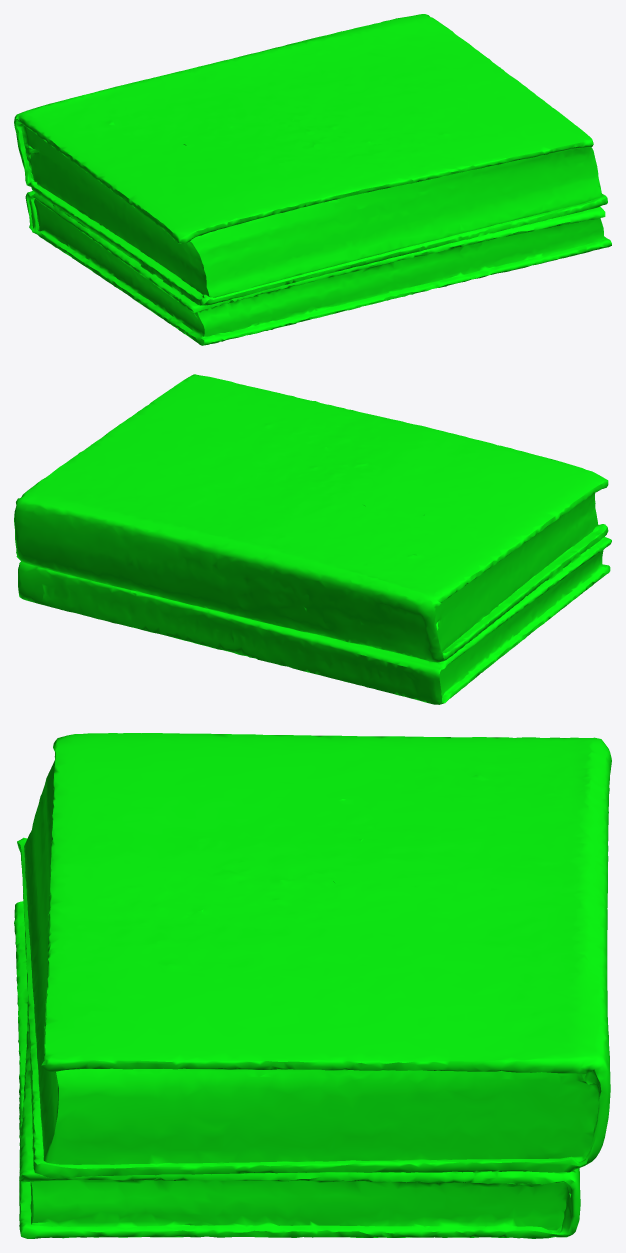
Rendered from book.glb.
The picture shows the model from 3 angles, top to bottom: view 1: azimuth 30°, elevation 25°; view 2: azimuth 150°, elevation 25°; view 3: azimuth 270°, elevation 25°; orthographic projection. The views are drawn at different scales.
Visible parts, largest first — view 1: Object_2; view 2: Object_2; view 3: Object_2.
Part boxes in pixels (box(x1,y1,x2,y2)): Object_2: box(14, 14, 611, 345); Object_2: box(14, 374, 611, 704); Object_2: box(14, 733, 611, 1238).
Bounding box in the file's own units: 14.99 × 3.99 × 11.24.
